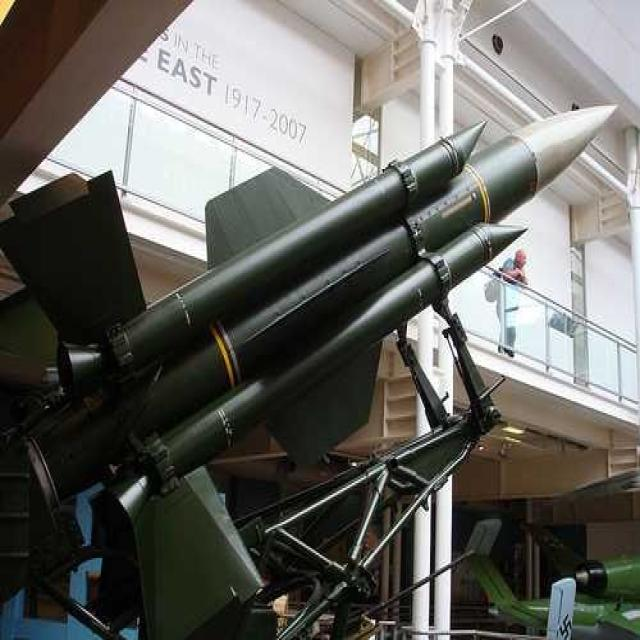missile: (0, 92, 614, 638)
